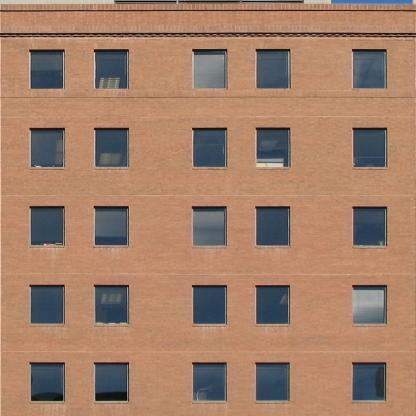Balcony: (0, 4, 416, 33)
Building Outline: (1, 4, 416, 416)
Facade: (1, 4, 416, 416)
Floor: (1, 117, 416, 190), (1, 196, 416, 268), (1, 274, 416, 345), (1, 352, 416, 411)
Floor Slab: (1, 410, 416, 416), (1, 111, 416, 117), (1, 190, 416, 196), (1, 268, 416, 274), (1, 346, 416, 352)
Molding: (0, 33, 416, 38)
Sill: (353, 401, 387, 404), (94, 401, 128, 404), (30, 401, 64, 404), (353, 167, 387, 170), (94, 245, 128, 248), (30, 245, 64, 248), (353, 324, 387, 327), (193, 401, 226, 404), (257, 401, 290, 404), (193, 167, 226, 170), (257, 245, 290, 248), (193, 324, 226, 327), (94, 167, 128, 169), (30, 167, 64, 169), (353, 246, 387, 248), (94, 324, 128, 326), (30, 324, 64, 326), (257, 167, 290, 169), (193, 246, 226, 248), (257, 324, 290, 326)
Top Floor: (1, 38, 416, 111)
Window: (352, 362, 388, 402), (192, 362, 228, 402), (352, 49, 388, 89), (192, 49, 228, 89), (352, 206, 388, 246), (192, 206, 228, 246), (93, 363, 129, 402), (29, 363, 65, 402), (93, 50, 129, 89), (29, 50, 65, 89), (352, 128, 388, 167), (93, 128, 129, 167), (192, 128, 228, 167), (29, 128, 65, 167), (93, 206, 129, 245), (29, 206, 65, 245), (352, 285, 388, 324), (93, 285, 129, 324), (192, 285, 228, 324), (29, 285, 65, 324), (256, 49, 291, 89), (256, 127, 291, 167), (256, 206, 291, 246), (256, 284, 291, 324), (256, 362, 291, 401)
